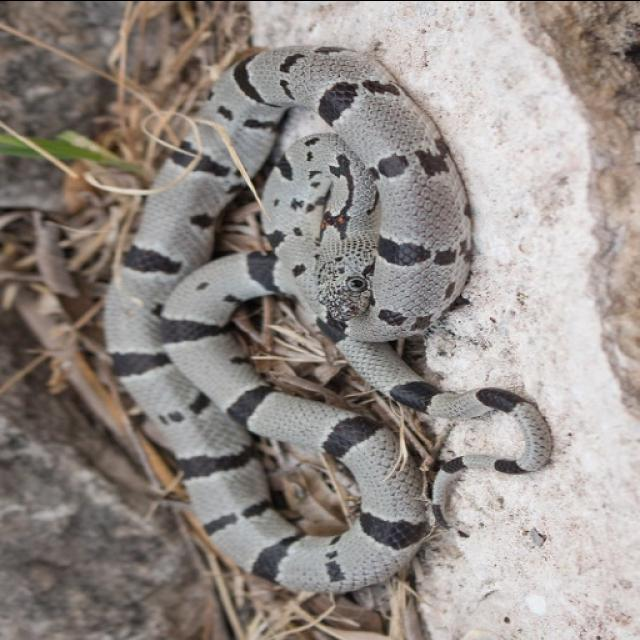snake: (93, 31, 549, 608)
